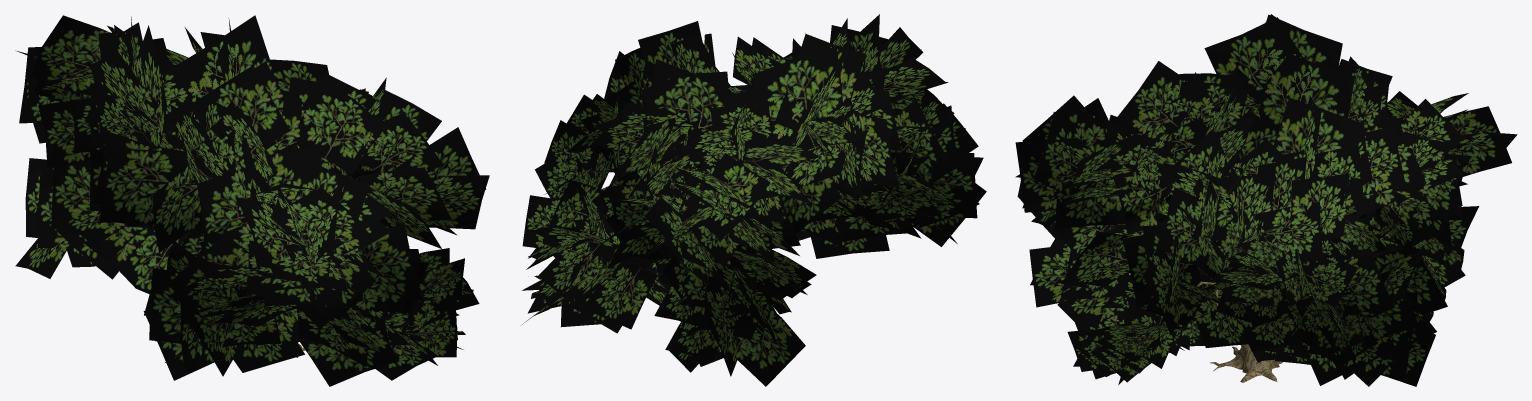
The model's file is oak_tree_01.fbx.
3 renders of one model, left to right at view 1: azimuth 30°, elevation 25°; view 2: azimuth 150°, elevation 25°; view 3: azimuth 270°, elevation 25°, orthographic. The views are drawn at different scales.
Visible parts, largest first — view 1: island_geo:canopy; view 2: island_geo:canopy; view 3: island_geo:canopy, island_geo:oak_geo.
Part boxes in pixels (<box>): island_geo:canopy: <box>15,15,489,386</box>; island_geo:canopy: <box>522,14,986,386</box>; island_geo:canopy: <box>1015,14,1517,386</box>; island_geo:oak_geo: <box>1109,267,1341,382</box>.
Size of the model in its own units: 21.69 by 19.12 by 29.12.
